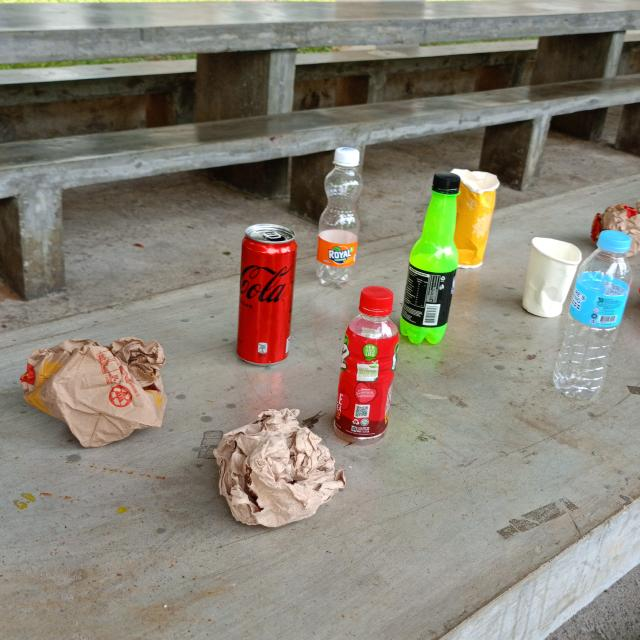Anorganik: (548, 227, 638, 407), (326, 282, 404, 448), (397, 167, 464, 348), (228, 220, 304, 372), (309, 142, 368, 289)
Organik: (12, 331, 174, 455), (204, 403, 352, 536), (442, 164, 502, 272), (518, 231, 585, 324), (586, 200, 640, 262)
